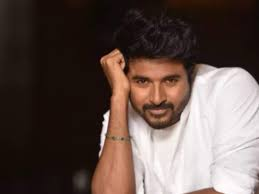No-Glasses: (131, 74, 188, 94)
